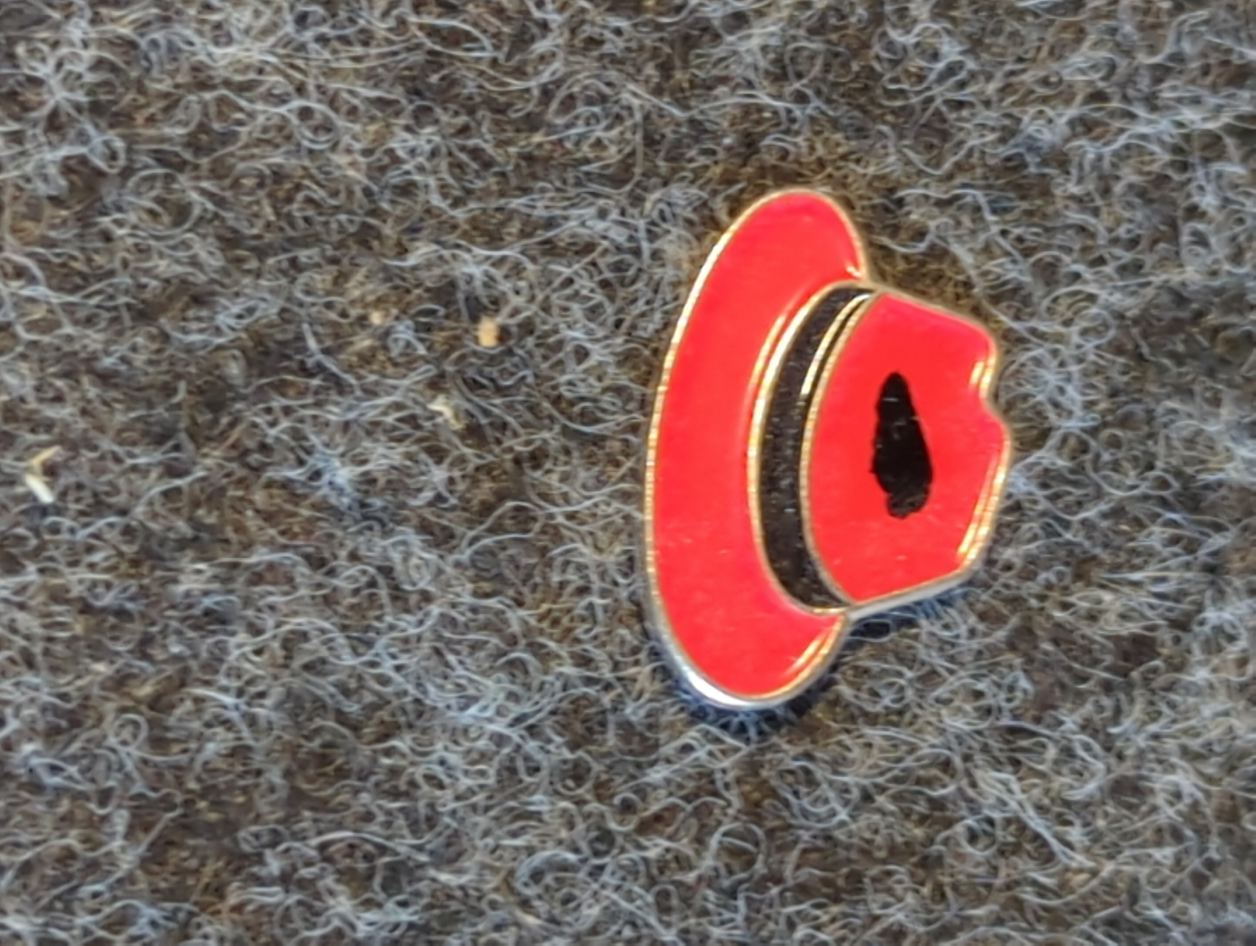Red-Hat: (550, 108, 1139, 796)
Scratch: (816, 333, 974, 555)
